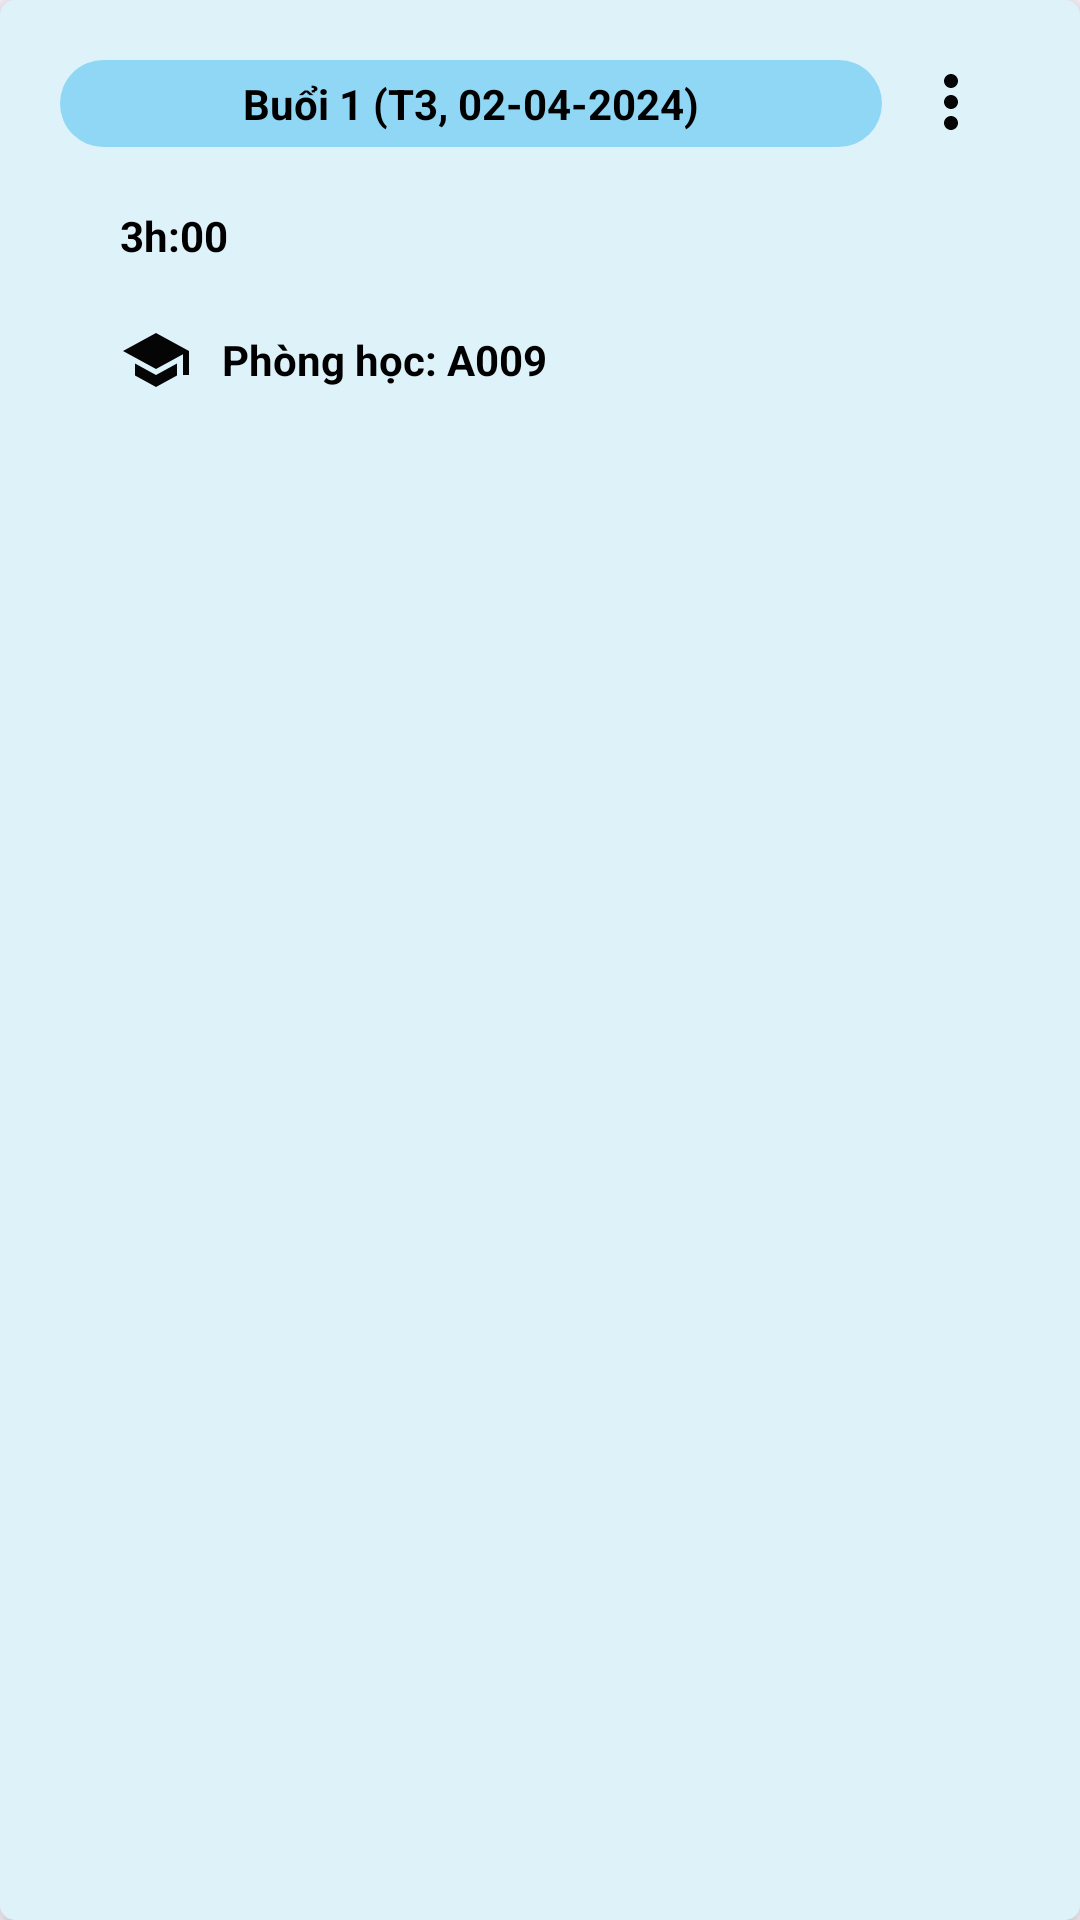

Point at icon controls on the screen. Image size 1080 × 1920, points as [x,y].
more: [951,102]
